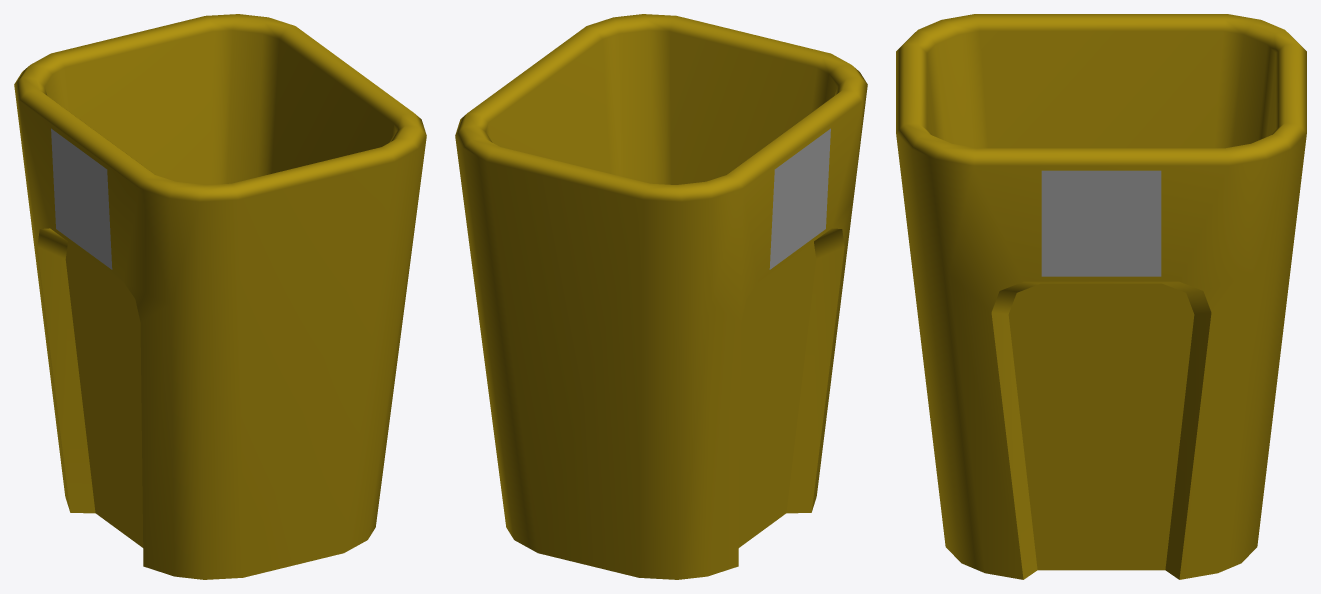
The model's file is laboratory_wasteBin.fbx.
The picture shows the model from 3 angles, left to right: view 1: azimuth 30°, elevation 25°; view 2: azimuth 150°, elevation 25°; view 3: azimuth 270°, elevation 25°; orthographic projection. The views are drawn at different scales.
Parts seen in each view (by area): view 1: laboratory_waste_bin; view 2: laboratory_waste_bin; view 3: laboratory_waste_bin.
Boxes of the visible parts, bbox=[...] form: laboratory_waste_bin: bbox=[14, 14, 426, 579]; laboratory_waste_bin: bbox=[455, 14, 867, 579]; laboratory_waste_bin: bbox=[896, 14, 1306, 579].
Size of the model in its own units: 0.0112 by 0.0155 by 0.0132.
